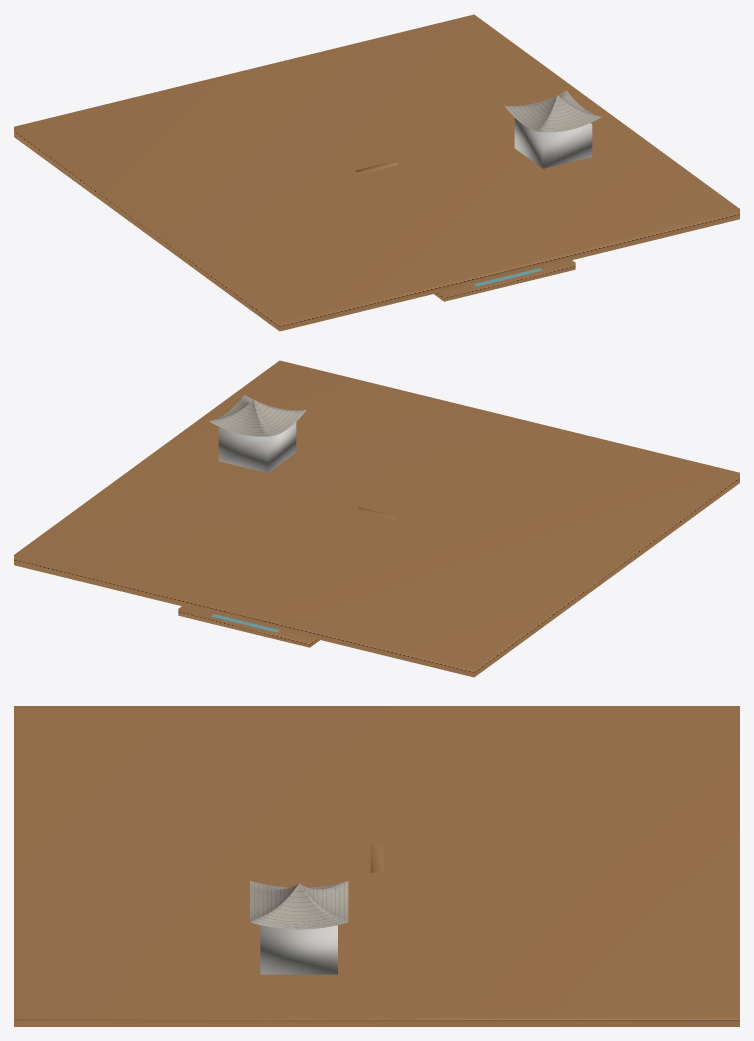
3 renders of one model, top to bottom at view 1: azimuth 30°, elevation 25°; view 2: azimuth 150°, elevation 25°; view 3: azimuth 270°, elevation 25°, orthographic. The views are drawn at different scales.
Parts seen in each view (by area): view 1: bedrock_simplified, pavilion_simplified; view 2: bedrock_simplified, pavilion_simplified; view 3: bedrock_simplified, pavilion_simplified.
Part boxes in pixels (x1,y1,x2,y2): bedrock_simplified: [14, 14, 739, 331]; pavilion_simplified: [504, 90, 601, 168]; bedrock_simplified: [14, 360, 739, 677]; pavilion_simplified: [208, 395, 306, 473]; bedrock_simplified: [14, 706, 739, 1026]; pavilion_simplified: [250, 881, 348, 974].
Size of the model in its own units: 56 by 9 by 56.
Materials: 4 (4 with a texture image).
